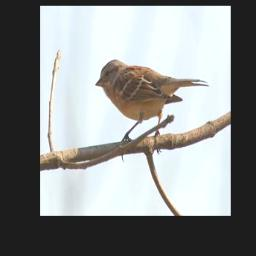Sparrow: (94, 57, 211, 162)
